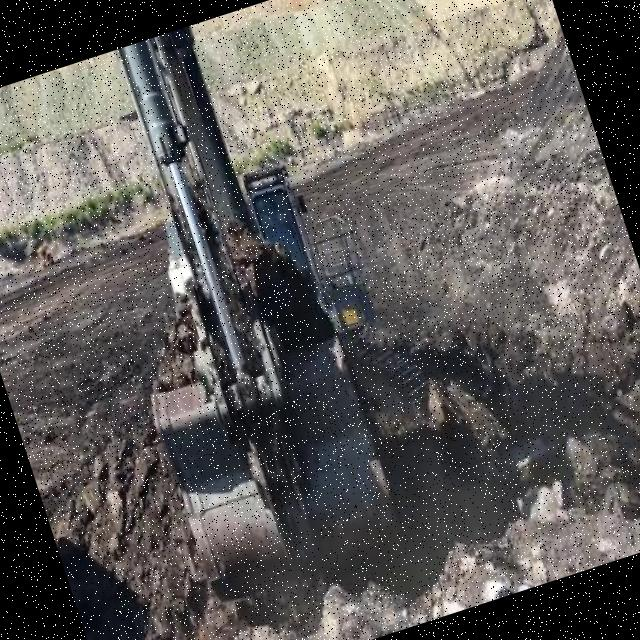Excavator: (37, 0, 480, 619)
